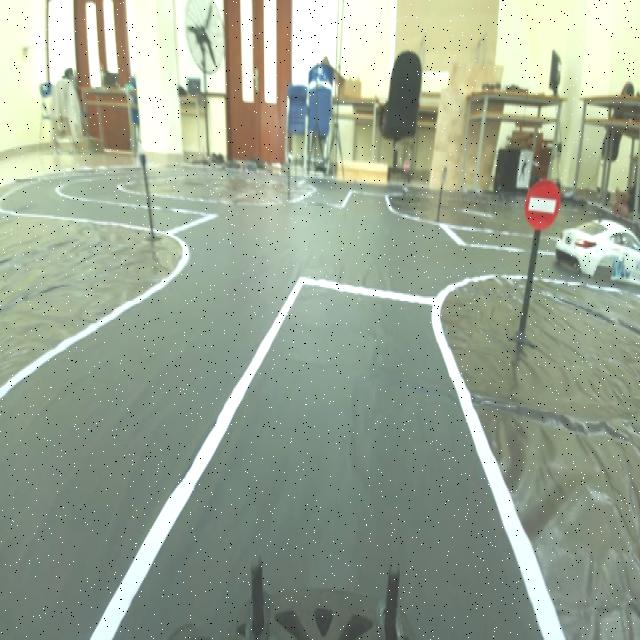no_entry: (523, 165, 561, 225)
